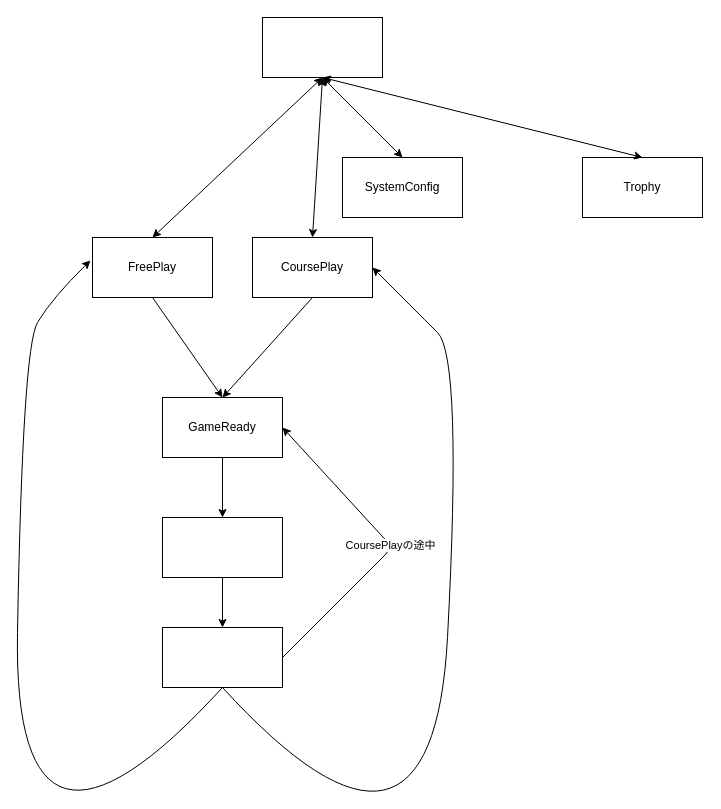
Some shapes in this 721 by 809 pixel diagram are drawn without their labels. The shapes that lost their labels are listed below. From the top down, each one's box as (x1, y1, x2, y2) in pixels, then its label:
(262, 16, 382, 78): Title
(162, 516, 282, 578): GamePlay
(162, 626, 282, 688): Result
